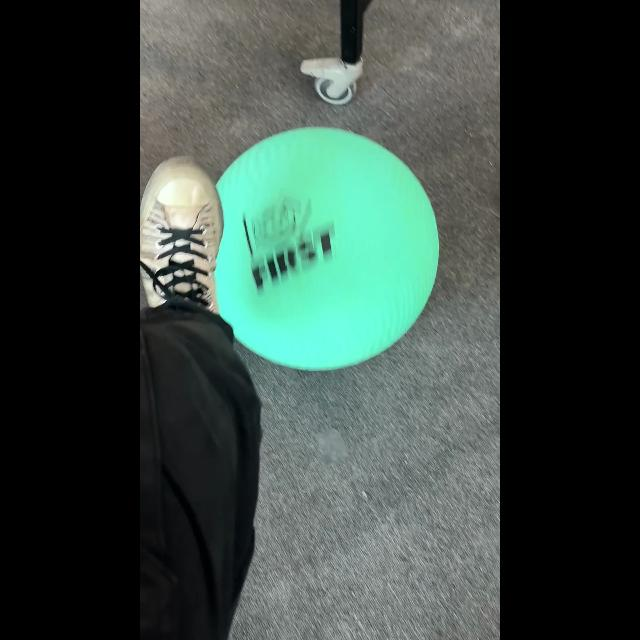ALGAE: (213, 125, 439, 371)
